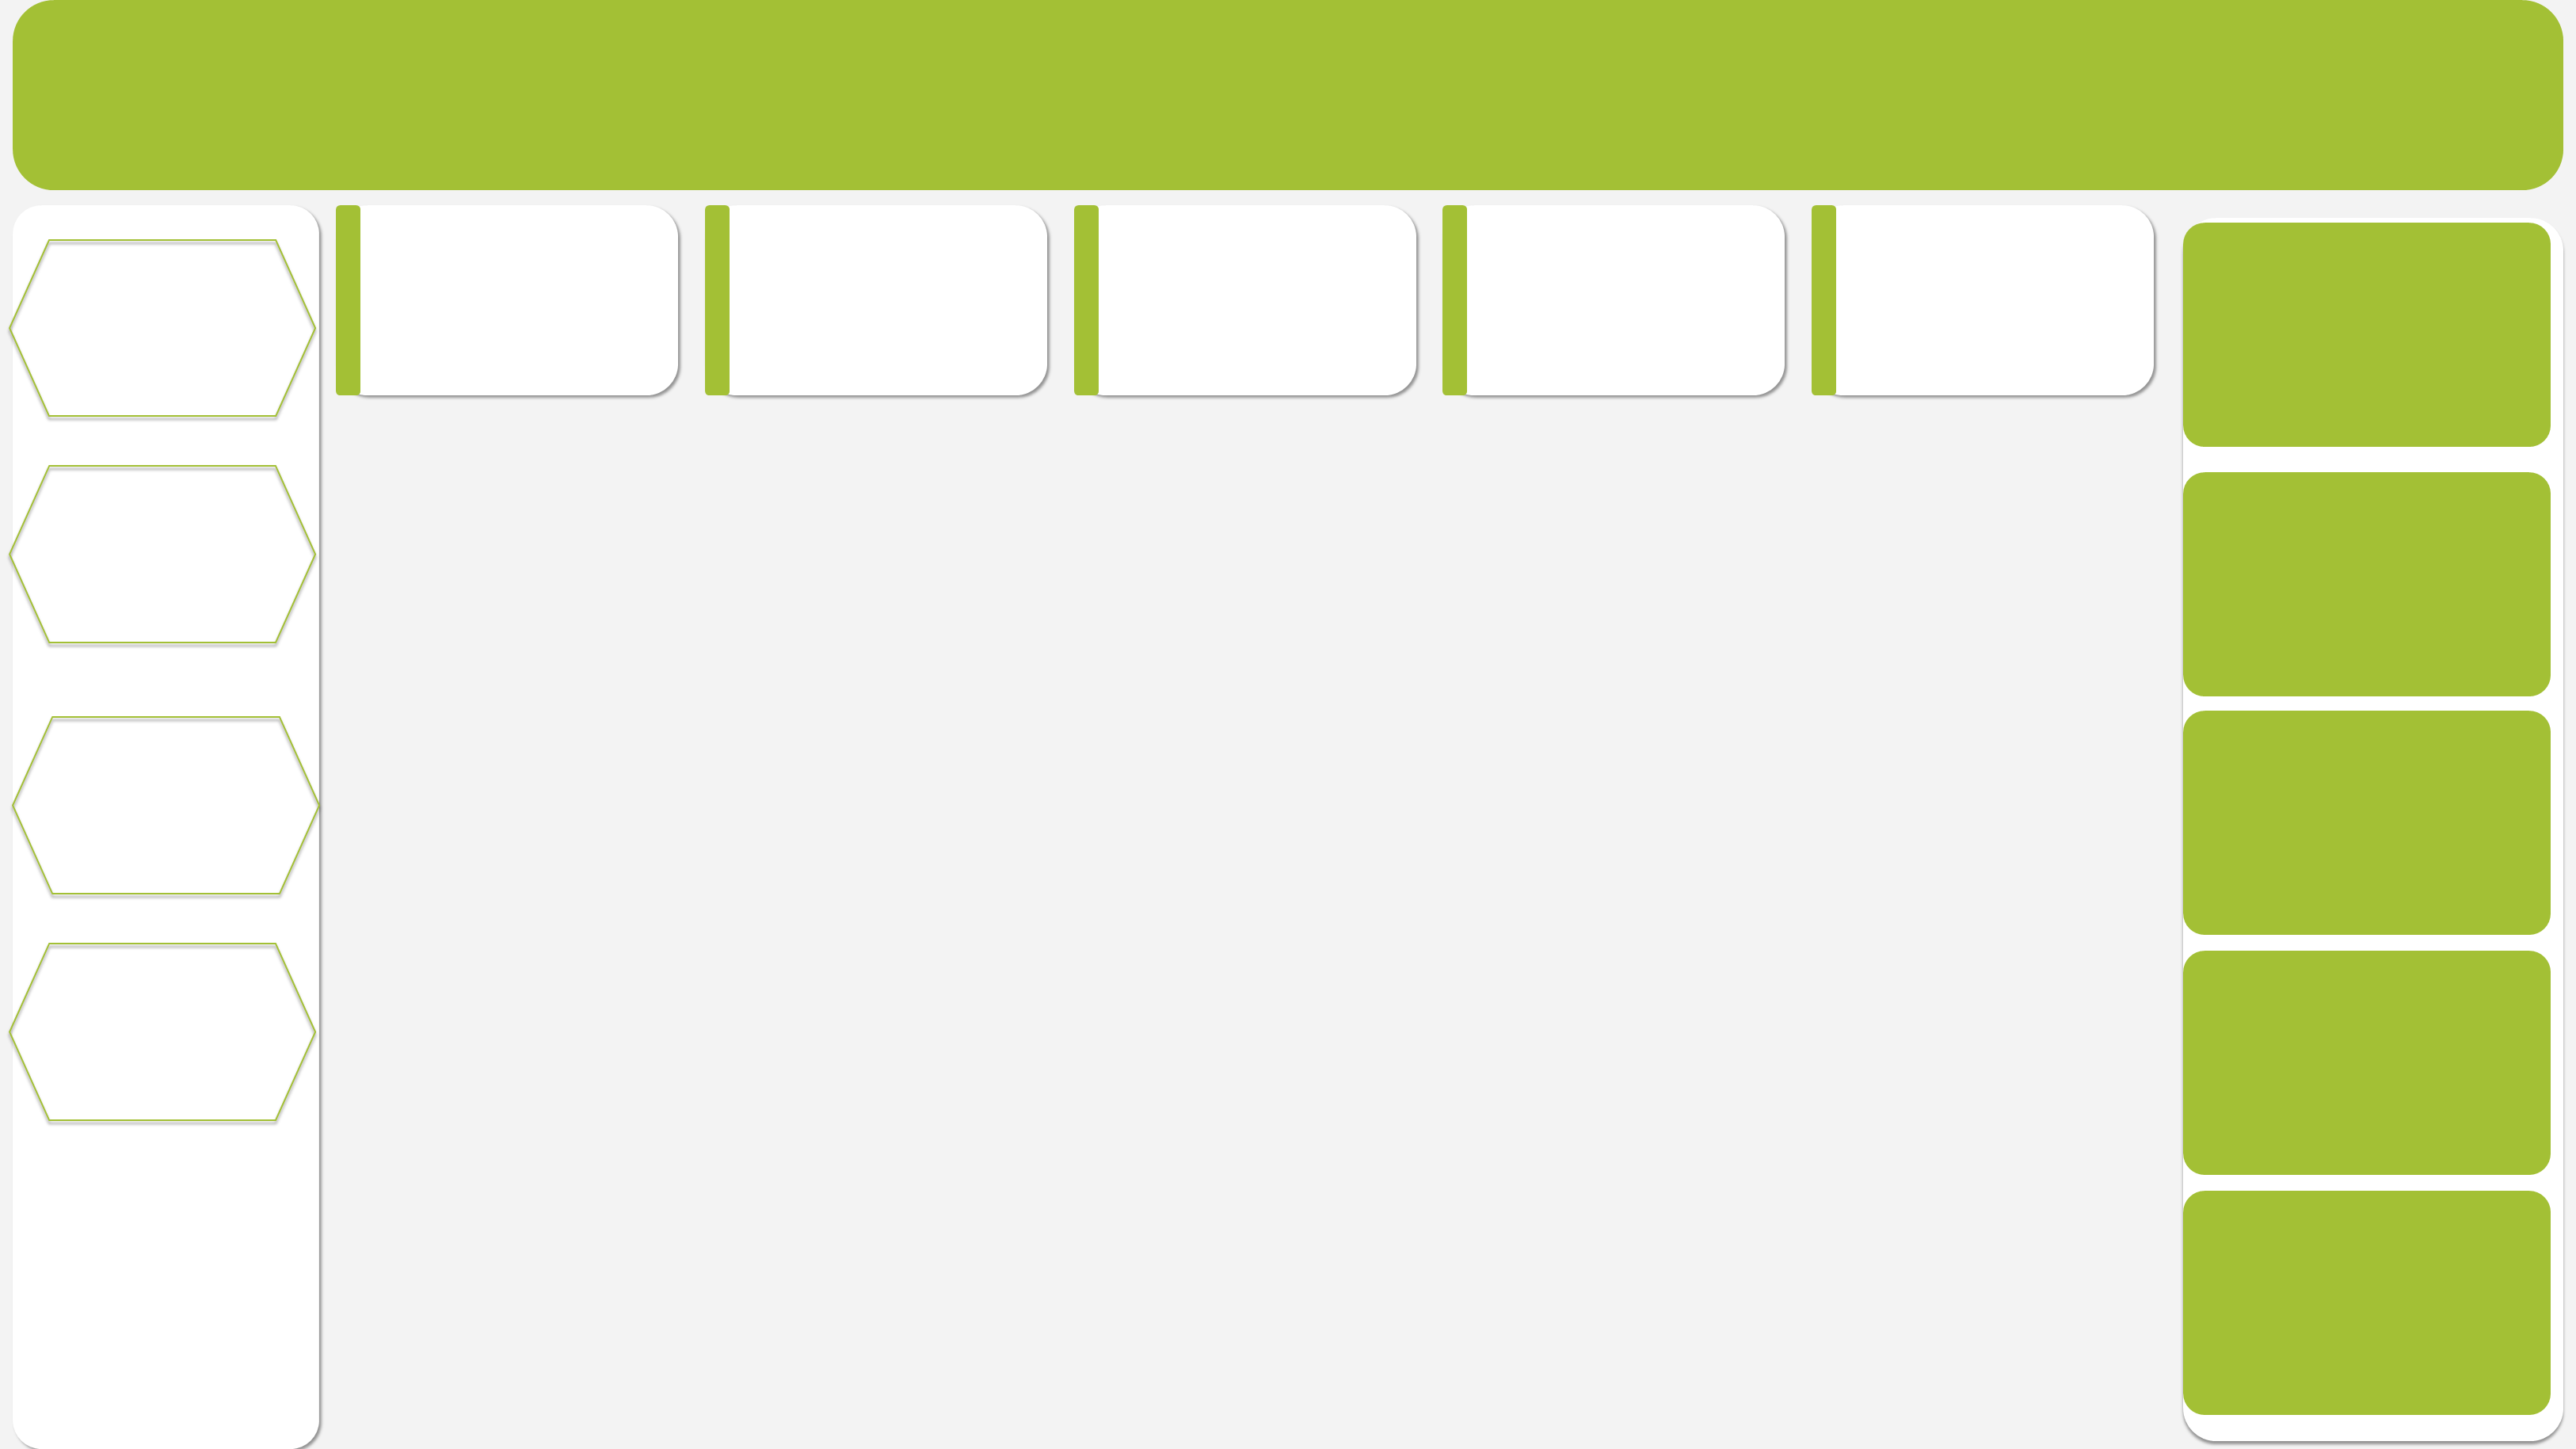

What the dashboard file says about the page in this screenshot:
{"tool":"powerbi","page":{"name":"Page 1","canvas":[1280,720],"ordinal":0},"visuals":[{"type":"textbox","box":[247.3,12.6,811.2,78.8],"z":0},{"type":"actionButton","box":[0,119.7,149.6,72.5],"z":1000},{"type":"actionButton","box":[0,220.5,149.6,72.5],"z":2000},{"type":"actionButton","box":[0,324.5,149.6,72.5],"z":3000},{"type":"actionButton","box":[0,420.5,149.6,72.5],"z":4000},{"type":"image","box":[20.5,505.6,110.3,74],"z":5000},{"type":"image","box":[20.5,606.4,110.3,74],"z":6000},{"type":"slicer","fields":{"Values":["Dates.Year"]},"box":[1090,119.7,170.1,100.8],"z":7000},{"type":"slicer","fields":{"Values":["Dates.Month"]},"box":[1090,242.6,170.1,100.8],"z":8000},{"type":"slicer","fields":{"Values":["customers.region"]},"box":[1090,478.8,170.1,100.8],"z":9000},{"type":"slicer","fields":{"Values":["categories.categoryName"]},"box":[1090,360.7,170.1,100.8],"z":10000},{"type":"slicer","fields":{"Values":["customers.country"]},"box":[1090,593.8,170.1,100.8],"z":11000},{"type":"cardVisual","title":"Total Order","fields":{"Data":["_Measures.Total Orders"]},"box":[179.6,105.5,152.8,86.6],"z":12000},{"type":"cardVisual","title":"Total Revenue","fields":{"Data":["_Measures.Total Revenue"]},"box":[367,105.5,152.8,86.6],"z":13000},{"type":"cardVisual","title":"Total Quantity","fields":{"Data":["_Measures.Total Quantity"]},"box":[549.7,105.5,152.8,86.6],"z":14000},{"type":"cardVisual","title":"AOV","fields":{"Data":["_Measures.AOV"]},"box":[730.8,105.5,152.8,86.6],"z":15000},{"type":"cardVisual","title":"Total Sales","fields":{"Data":["_Measures.Total Sales"]},"box":[916.7,107.1,152.8,86.6],"z":16000},{"type":"image","box":[20,17.1,77.1,68.6],"z":17000},{"type":"areaChart","fields":{"Category":["Dates.Month"],"Y":["_Measures.Total Revenue"]},"box":[168.5,209.5,433.1,225.2],"z":18000},{"type":"donutChart","fields":{"Y":["_Measures.Total Revenue"],"Category":["categories.categoryName"]},"box":[168.8,460.6,432.9,234.3],"z":19000},{"type":"barChart","fields":{"Y":["_Measures.Total Revenue"],"Category":["customers.country"]},"box":[625.4,210.5,434.8,224.4],"z":20000},{"type":"lineChart","fields":{"Y":["_Measures.Total Revenue"],"Category":["Dates.Year"]},"box":[625,461,435,234],"z":21000}]}

Visuals, with their boxes in screenshot pixels (x1, y1, x2, y2), scaled from the page's 1280x720 canvas onto the 2576x1449 screenshot:
textbox: [497, 25, 2130, 184]
actionButton: [0, 241, 301, 387]
actionButton: [0, 444, 301, 589]
actionButton: [0, 653, 301, 799]
actionButton: [0, 846, 301, 992]
image: [41, 1017, 263, 1166]
image: [41, 1220, 263, 1369]
slicer - Dates.Year: [2193, 241, 2536, 444]
slicer - Dates.Month: [2193, 488, 2536, 691]
slicer - customers.region: [2193, 963, 2536, 1166]
slicer - categories.categoryName: [2193, 726, 2536, 929]
slicer - customers.country: [2193, 1195, 2536, 1398]
"Total Order" cardVisual: [361, 212, 669, 387]
"Total Revenue" cardVisual: [738, 212, 1046, 387]
"Total Quantity" cardVisual: [1107, 212, 1414, 387]
"AOV" cardVisual: [1471, 212, 1778, 387]
"Total Sales" cardVisual: [1845, 215, 2152, 390]
image: [40, 34, 196, 173]
areaChart - Dates.Month x _Measures.Total Revenue: [339, 421, 1210, 875]
donutChart - _Measures.Total Revenue x categories.categoryName: [340, 927, 1211, 1398]
barChart - _Measures.Total Revenue x customers.country: [1259, 424, 2134, 875]
lineChart - _Measures.Total Revenue x Dates.Year: [1258, 928, 2133, 1398]
